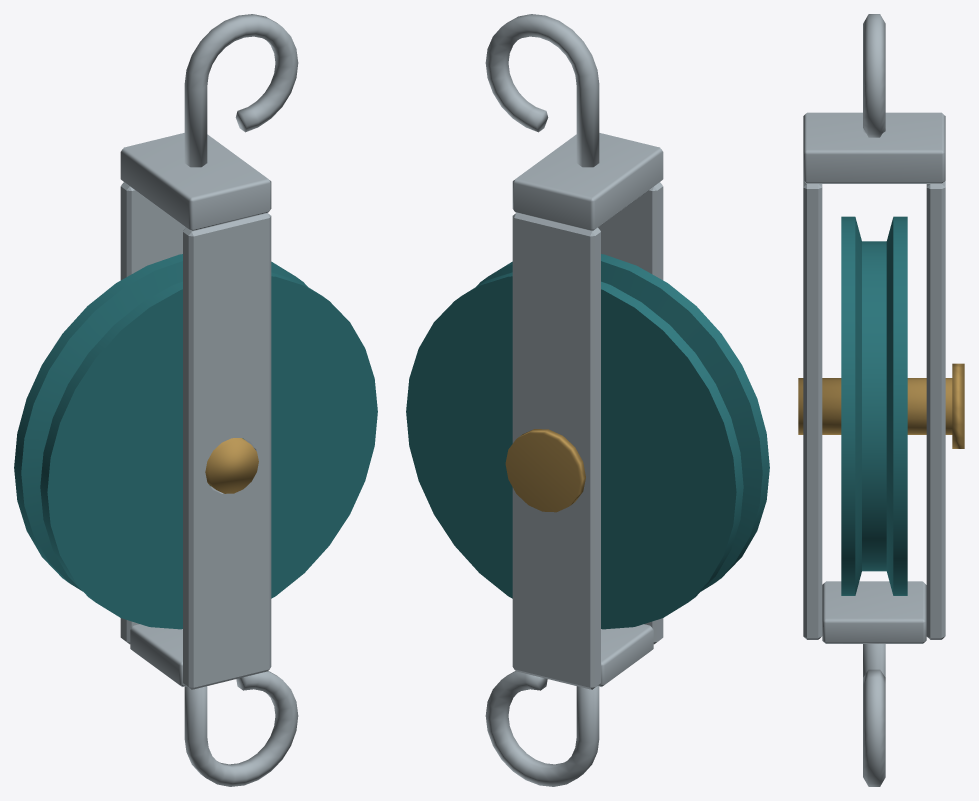
The model's file is VLAB_pulley.fbx.
3 renders of one model, left to right at view 1: azimuth 30°, elevation 25°; view 2: azimuth 150°, elevation 25°; view 3: azimuth 270°, elevation 25°, orthographic.
Parts seen in each view (by area): view 1: VLAB_pulley_Sheave_VIS, VLAB_pulley_Fork_VIS, VLAB_pulley_BottomHook_VIS, VLAB_pulley_TopHook_VIS, VLAB_pulley_Axle_VIS; view 2: VLAB_pulley_Sheave_VIS, VLAB_pulley_Fork_VIS, VLAB_pulley_BottomHook_VIS, VLAB_pulley_TopHook_VIS, VLAB_pulley_Axle_VIS; view 3: VLAB_pulley_Fork_VIS, VLAB_pulley_Sheave_VIS, VLAB_pulley_BottomHook_VIS, VLAB_pulley_Axle_VIS, VLAB_pulley_TopHook_VIS.
Boxes of the visible parts, box(x1,y1,x2,y2) form: VLAB_pulley_Sheave_VIS: box(14, 254, 377, 629); VLAB_pulley_Fork_VIS: box(120, 133, 271, 689); VLAB_pulley_BottomHook_VIS: box(130, 624, 298, 786); VLAB_pulley_TopHook_VIS: box(184, 14, 298, 167); VLAB_pulley_Axle_VIS: box(205, 438, 258, 493); VLAB_pulley_Sheave_VIS: box(406, 254, 769, 629); VLAB_pulley_Fork_VIS: box(512, 133, 663, 689); VLAB_pulley_BottomHook_VIS: box(485, 624, 653, 786); VLAB_pulley_TopHook_VIS: box(485, 14, 599, 167); VLAB_pulley_Axle_VIS: box(505, 429, 585, 512); VLAB_pulley_Fork_VIS: box(803, 112, 945, 639); VLAB_pulley_Sheave_VIS: box(841, 216, 907, 595); VLAB_pulley_BottomHook_VIS: box(822, 581, 926, 786); VLAB_pulley_Axle_VIS: box(798, 363, 964, 448); VLAB_pulley_TopHook_VIS: box(863, 14, 885, 137).
Size of the model in its own units: 0.04 by 0.0886 by 0.0175.
